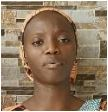without_facemask: (31, 49, 75, 87)
